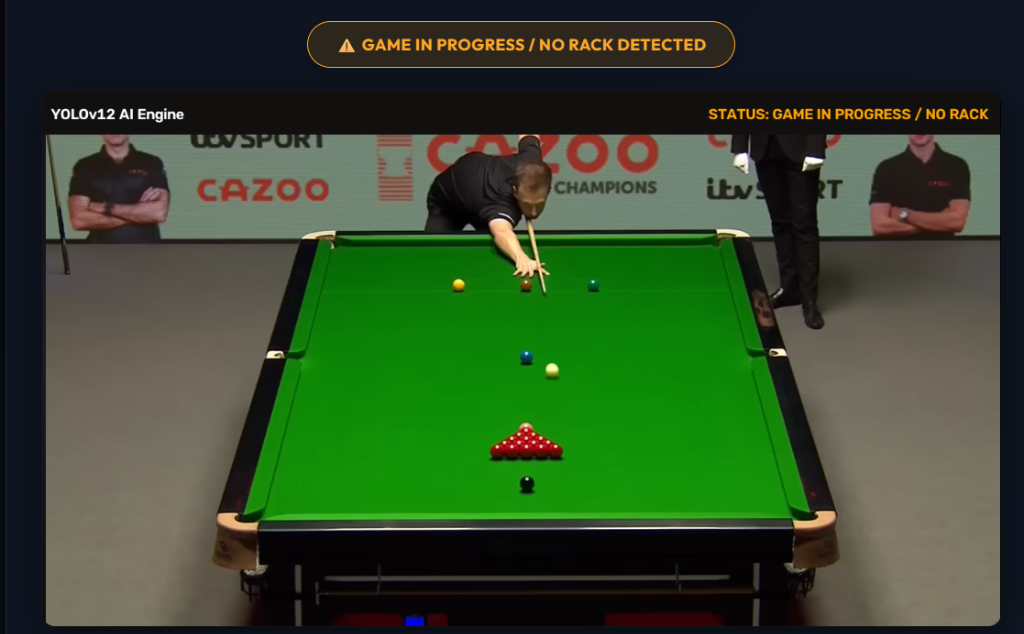Snooker: (487, 421, 564, 465)
